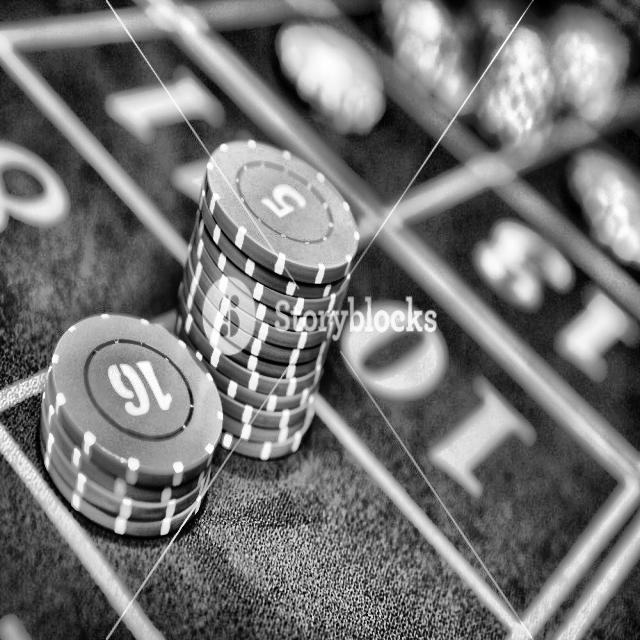Chip: (173, 124, 361, 468), (31, 310, 227, 548)
